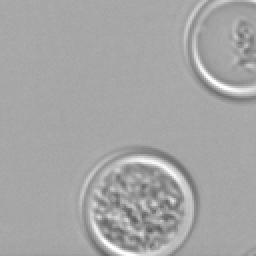picoshell: (78, 146, 196, 256), (182, 0, 254, 98)
